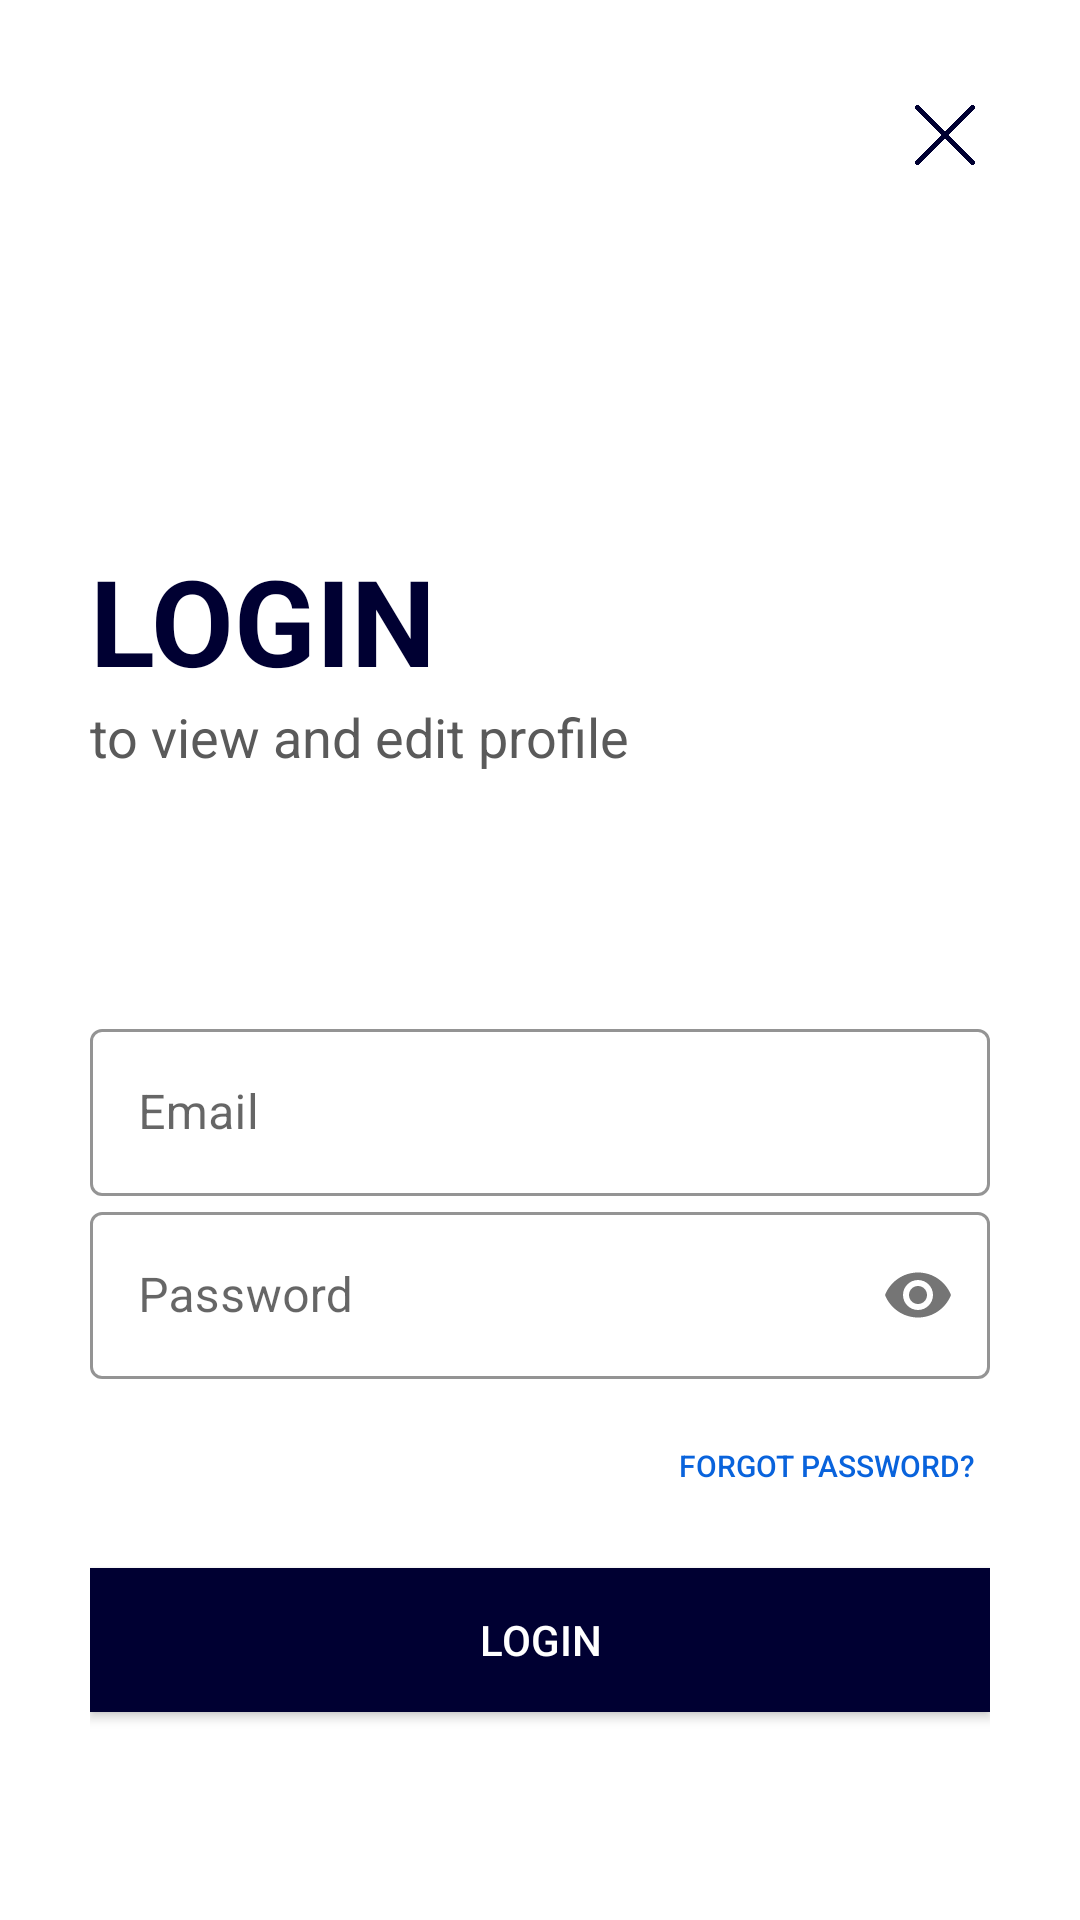

Icon bounding boxes for this 1080*1920 phone screenshot, format (x1, y1, x2, y2):
cancel: (915, 105, 975, 165)
